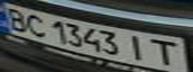1: (45, 17, 69, 44)
3: (100, 28, 124, 56), (63, 20, 84, 48)
4: (81, 25, 100, 53)
B: (0, 4, 30, 33)
C: (21, 11, 51, 37)
I: (124, 33, 151, 61)
T: (145, 36, 184, 66)
